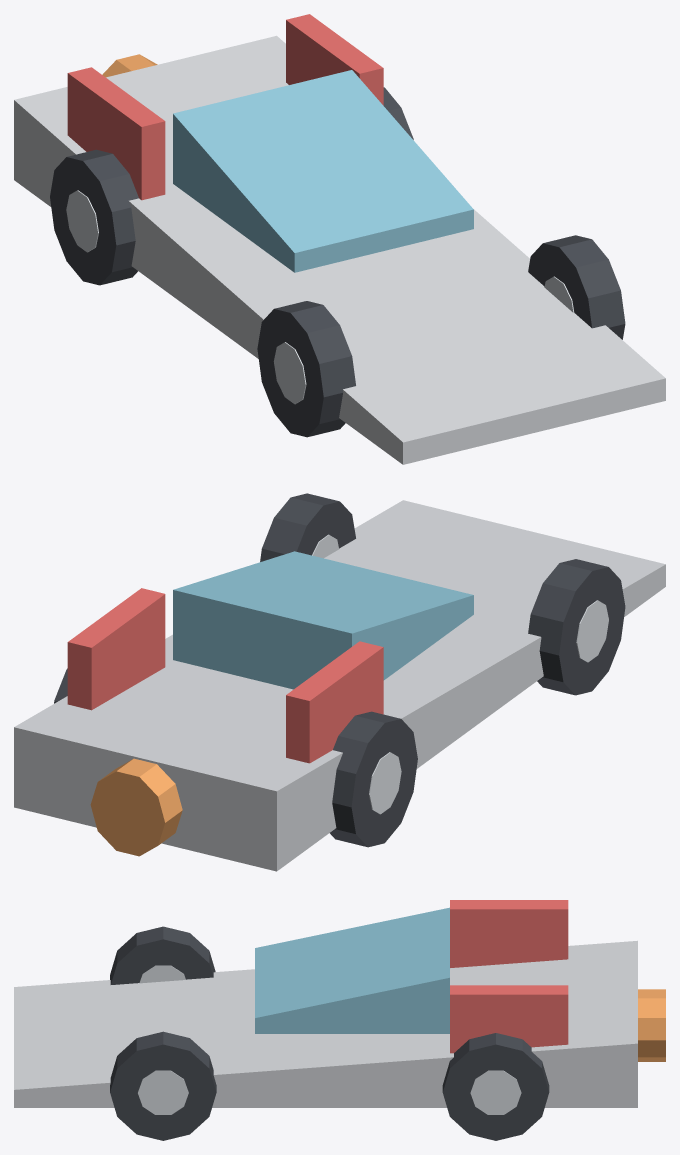
Rendered from player_rocket_car.glb.
3 renders of one model, top to bottom at view 1: azimuth 30°, elevation 25°; view 2: azimuth 150°, elevation 25°; view 3: azimuth 270°, elevation 25°, orthographic. The views are drawn at different scales.
Parts seen in each view (by area): view 1: rocket_body_0, rocket_canopy_1, wheel_FL_5, wheel_RL_9, fin_L_2, wheel_FR_7, fin_R_3, rim_FL_6, rim_RL_10; view 2: rocket_body_0, rocket_canopy_1, wheel_FL_5, fin_R_3, wheel_RL_9, fin_L_2, rocket_nozzle_4, wheel_FR_7, rim_RL_10, rim_FL_6; view 3: rocket_body_0, rocket_canopy_1, fin_L_2, wheel_FR_7, wheel_RR_11, fin_R_3, wheel_FL_5, rocket_nozzle_4, rim_FR_8, rim_RR_12, rim_FL_6.
Part boxes in pixels (x1=…): rocket_body_0: x1=14, y1=35, x2=665, y2=464; rocket_canopy_1: x1=173, y1=70, x2=473, y2=272; wheel_FL_5: x1=257, y1=301, x2=355, y2=437; wheel_RL_9: x1=50, y1=149, x2=138, y2=285; fin_L_2: x1=67, y1=67, x2=165, y2=200; wheel_FR_7: x1=528, y1=235, x2=625, y2=339; fin_R_3: x1=286, y1=14, x2=383, y2=105; rim_FL_6: x1=273, y1=342, x2=306, y2=404; rim_RL_10: x1=66, y1=190, x2=98, y2=252; rocket_body_0: x1=14, y1=500, x2=665, y2=871; rocket_canopy_1: x1=173, y1=551, x2=473, y2=689; wheel_FL_5: x1=528, y1=559, x2=625, y2=695; fin_R_3: x1=67, y1=588, x2=165, y2=710; wheel_RL_9: x1=330, y1=711, x2=417, y2=847; fin_L_2: x1=286, y1=641, x2=383, y2=763; rocket_nozzle_4: x1=90, y1=758, x2=182, y2=856; wheel_FR_7: x1=260, y1=493, x2=355, y2=561; rim_RL_10: x1=369, y1=752, x2=401, y2=814; rim_FL_6: x1=576, y1=600, x2=608, y2=662; rocket_body_0: x1=14, y1=940, x2=637, y2=1107; rocket_canopy_1: x1=255, y1=907, x2=449, y2=1033; fin_L_2: x1=450, y1=900, x2=568, y2=967; wheel_FR_7: x1=110, y1=1031, x2=216, y2=1140; wheel_RR_11: x1=442, y1=1033, x2=549, y2=1140; fin_R_3: x1=450, y1=985, x2=568, y2=1053; wheel_FL_5: x1=110, y1=926, x2=215, y2=984; rocket_nozzle_4: x1=638, y1=989, x2=665, y2=1061; rim_FR_8: x1=138, y1=1070, x2=188, y2=1114; rim_RR_12: x1=470, y1=1070, x2=521, y2=1114; rim_FL_6: x1=139, y1=965, x2=185, y2=983.
Bounding box in the file's own units: 1.9 × 1.04 × 4.41.
